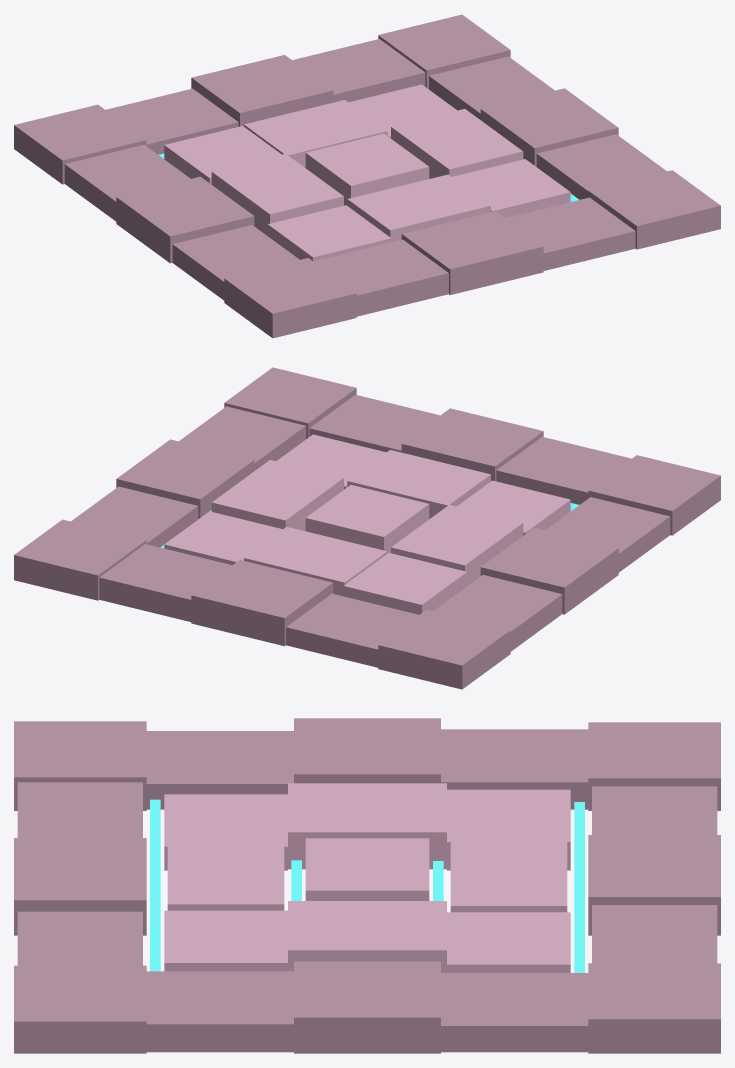
The model's file is fx_pet_tremor_ripple.glb.
3 renders of one model, top to bottom at view 1: azimuth 30°, elevation 25°; view 2: azimuth 150°, elevation 25°; view 3: azimuth 270°, elevation 25°, orthographic. The views are drawn at different scales.
Parts seen in each view (by area): view 1: pet_tremor_ripple_ripple_ring_2_Mesh1, pet_tremor_ripple_ripple_ring_1_Mesh1, pet_tremor_ripple_ripple_center_Mesh1; view 2: pet_tremor_ripple_ripple_ring_2_Mesh1, pet_tremor_ripple_ripple_ring_1_Mesh1, pet_tremor_ripple_ripple_center_Mesh1; view 3: pet_tremor_ripple_ripple_ring_2_Mesh1, pet_tremor_ripple_ripple_ring_1_Mesh1, pet_tremor_ripple_ripple_center_Mesh1, pet_tremor_ripple_ripple_glow_Glow1.
Boxes of the visible parts, <box> form: pet_tremor_ripple_ripple_ring_2_Mesh1: <box>14,14,720,338</box>; pet_tremor_ripple_ripple_ring_1_Mesh1: <box>164,84,570,261</box>; pet_tremor_ripple_ripple_center_Mesh1: <box>305,133,429,205</box>; pet_tremor_ripple_ripple_ring_2_Mesh1: <box>14,367,720,689</box>; pet_tremor_ripple_ripple_ring_1_Mesh1: <box>164,434,570,614</box>; pet_tremor_ripple_ripple_center_Mesh1: <box>305,485,429,552</box>; pet_tremor_ripple_ripple_ring_2_Mesh1: <box>14,718,720,1053</box>; pet_tremor_ripple_ripple_ring_1_Mesh1: <box>164,783,570,972</box>; pet_tremor_ripple_ripple_center_Mesh1: <box>305,838,429,900</box>; pet_tremor_ripple_ripple_glow_Glow1: <box>150,799,584,972</box>.
Bounding box in the file's own units: 8 × 0.5 × 8.
